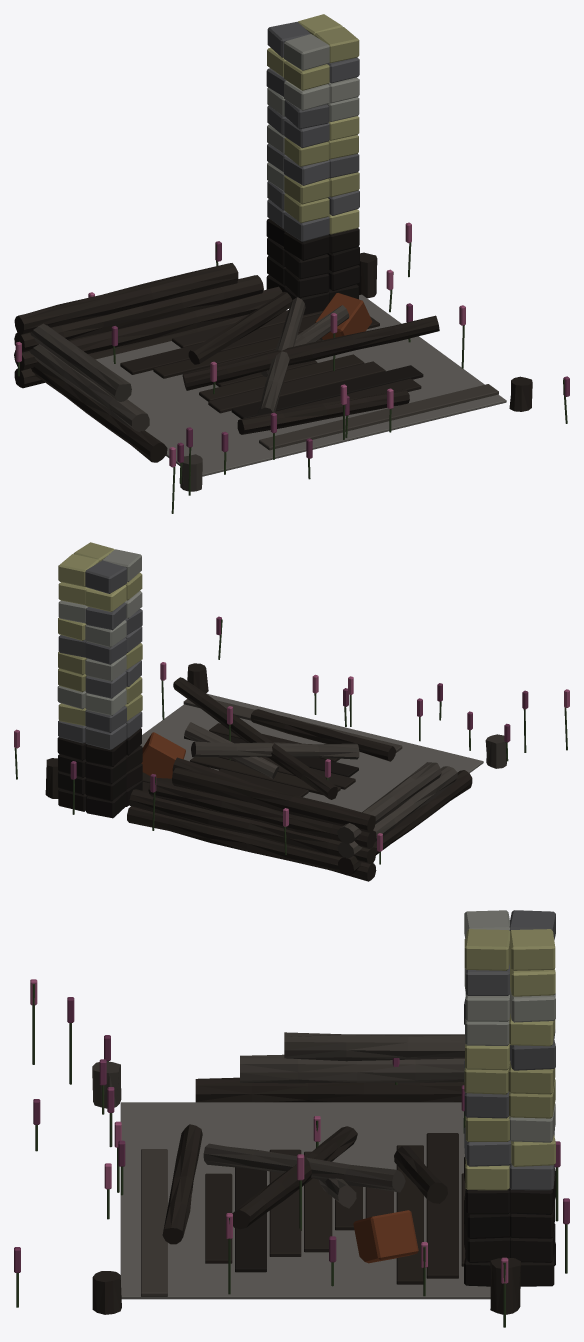
Rendered from cabin-burnt.glb.
3 views of the same model, one above another, from view 1: azimuth 30°, elevation 25°; view 2: azimuth 150°, elevation 25°; view 3: azimuth 270°, elevation 25° (orthographic). The views are drawn at different scales.
Parts seen in each view (by area): view 1: cabin-burnt-wall; view 2: cabin-burnt-wall; view 3: cabin-burnt-wall.
Boxes of the visible parts, x1,y1,x2,y2 form: cabin-burnt-wall: (14, 14, 569, 513); cabin-burnt-wall: (14, 542, 569, 881); cabin-burnt-wall: (14, 910, 569, 1327).
Size of the model in its own units: 7.12 by 4.5 by 6.28.
